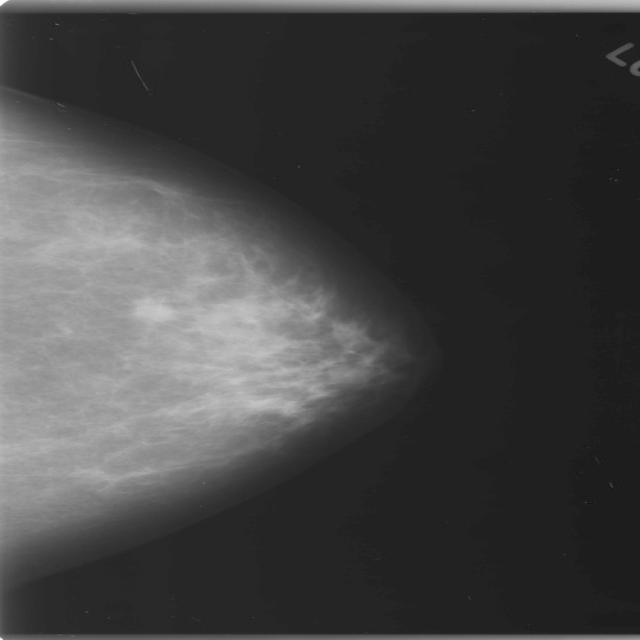tumour: (130, 296, 177, 324)
